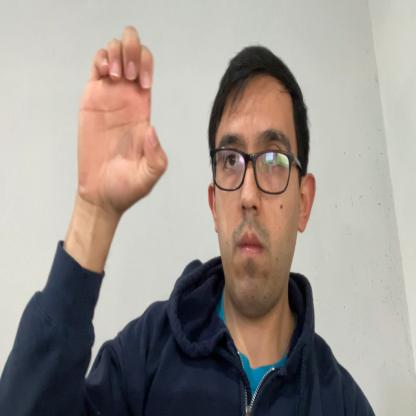E: (76, 26, 170, 218)
